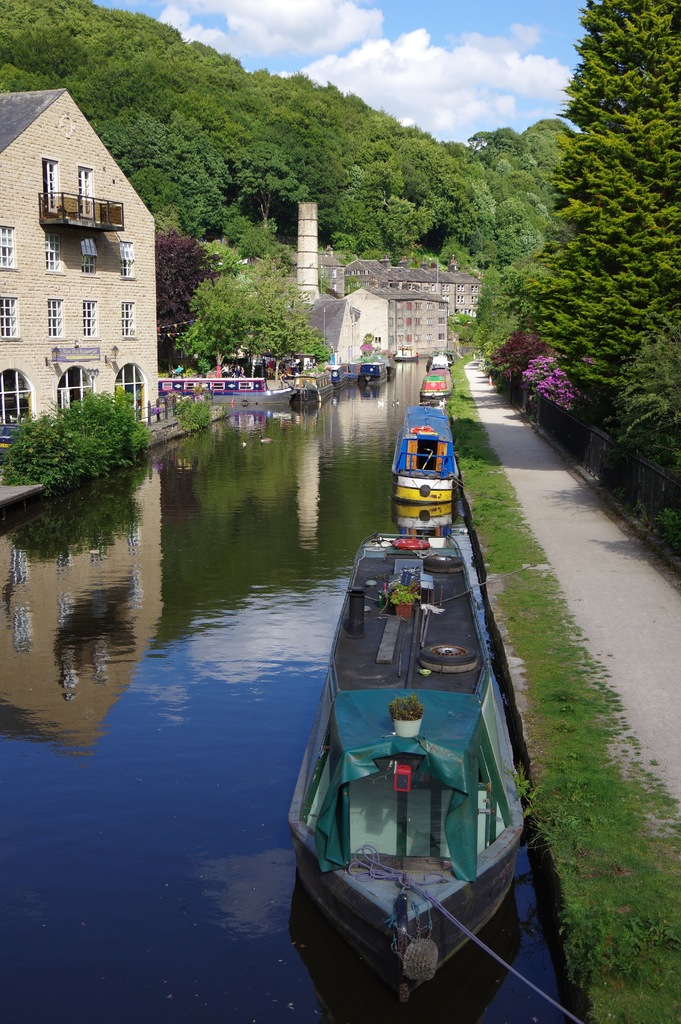Tree: (516, 24, 673, 413), (160, 252, 339, 359), (145, 233, 234, 345)
